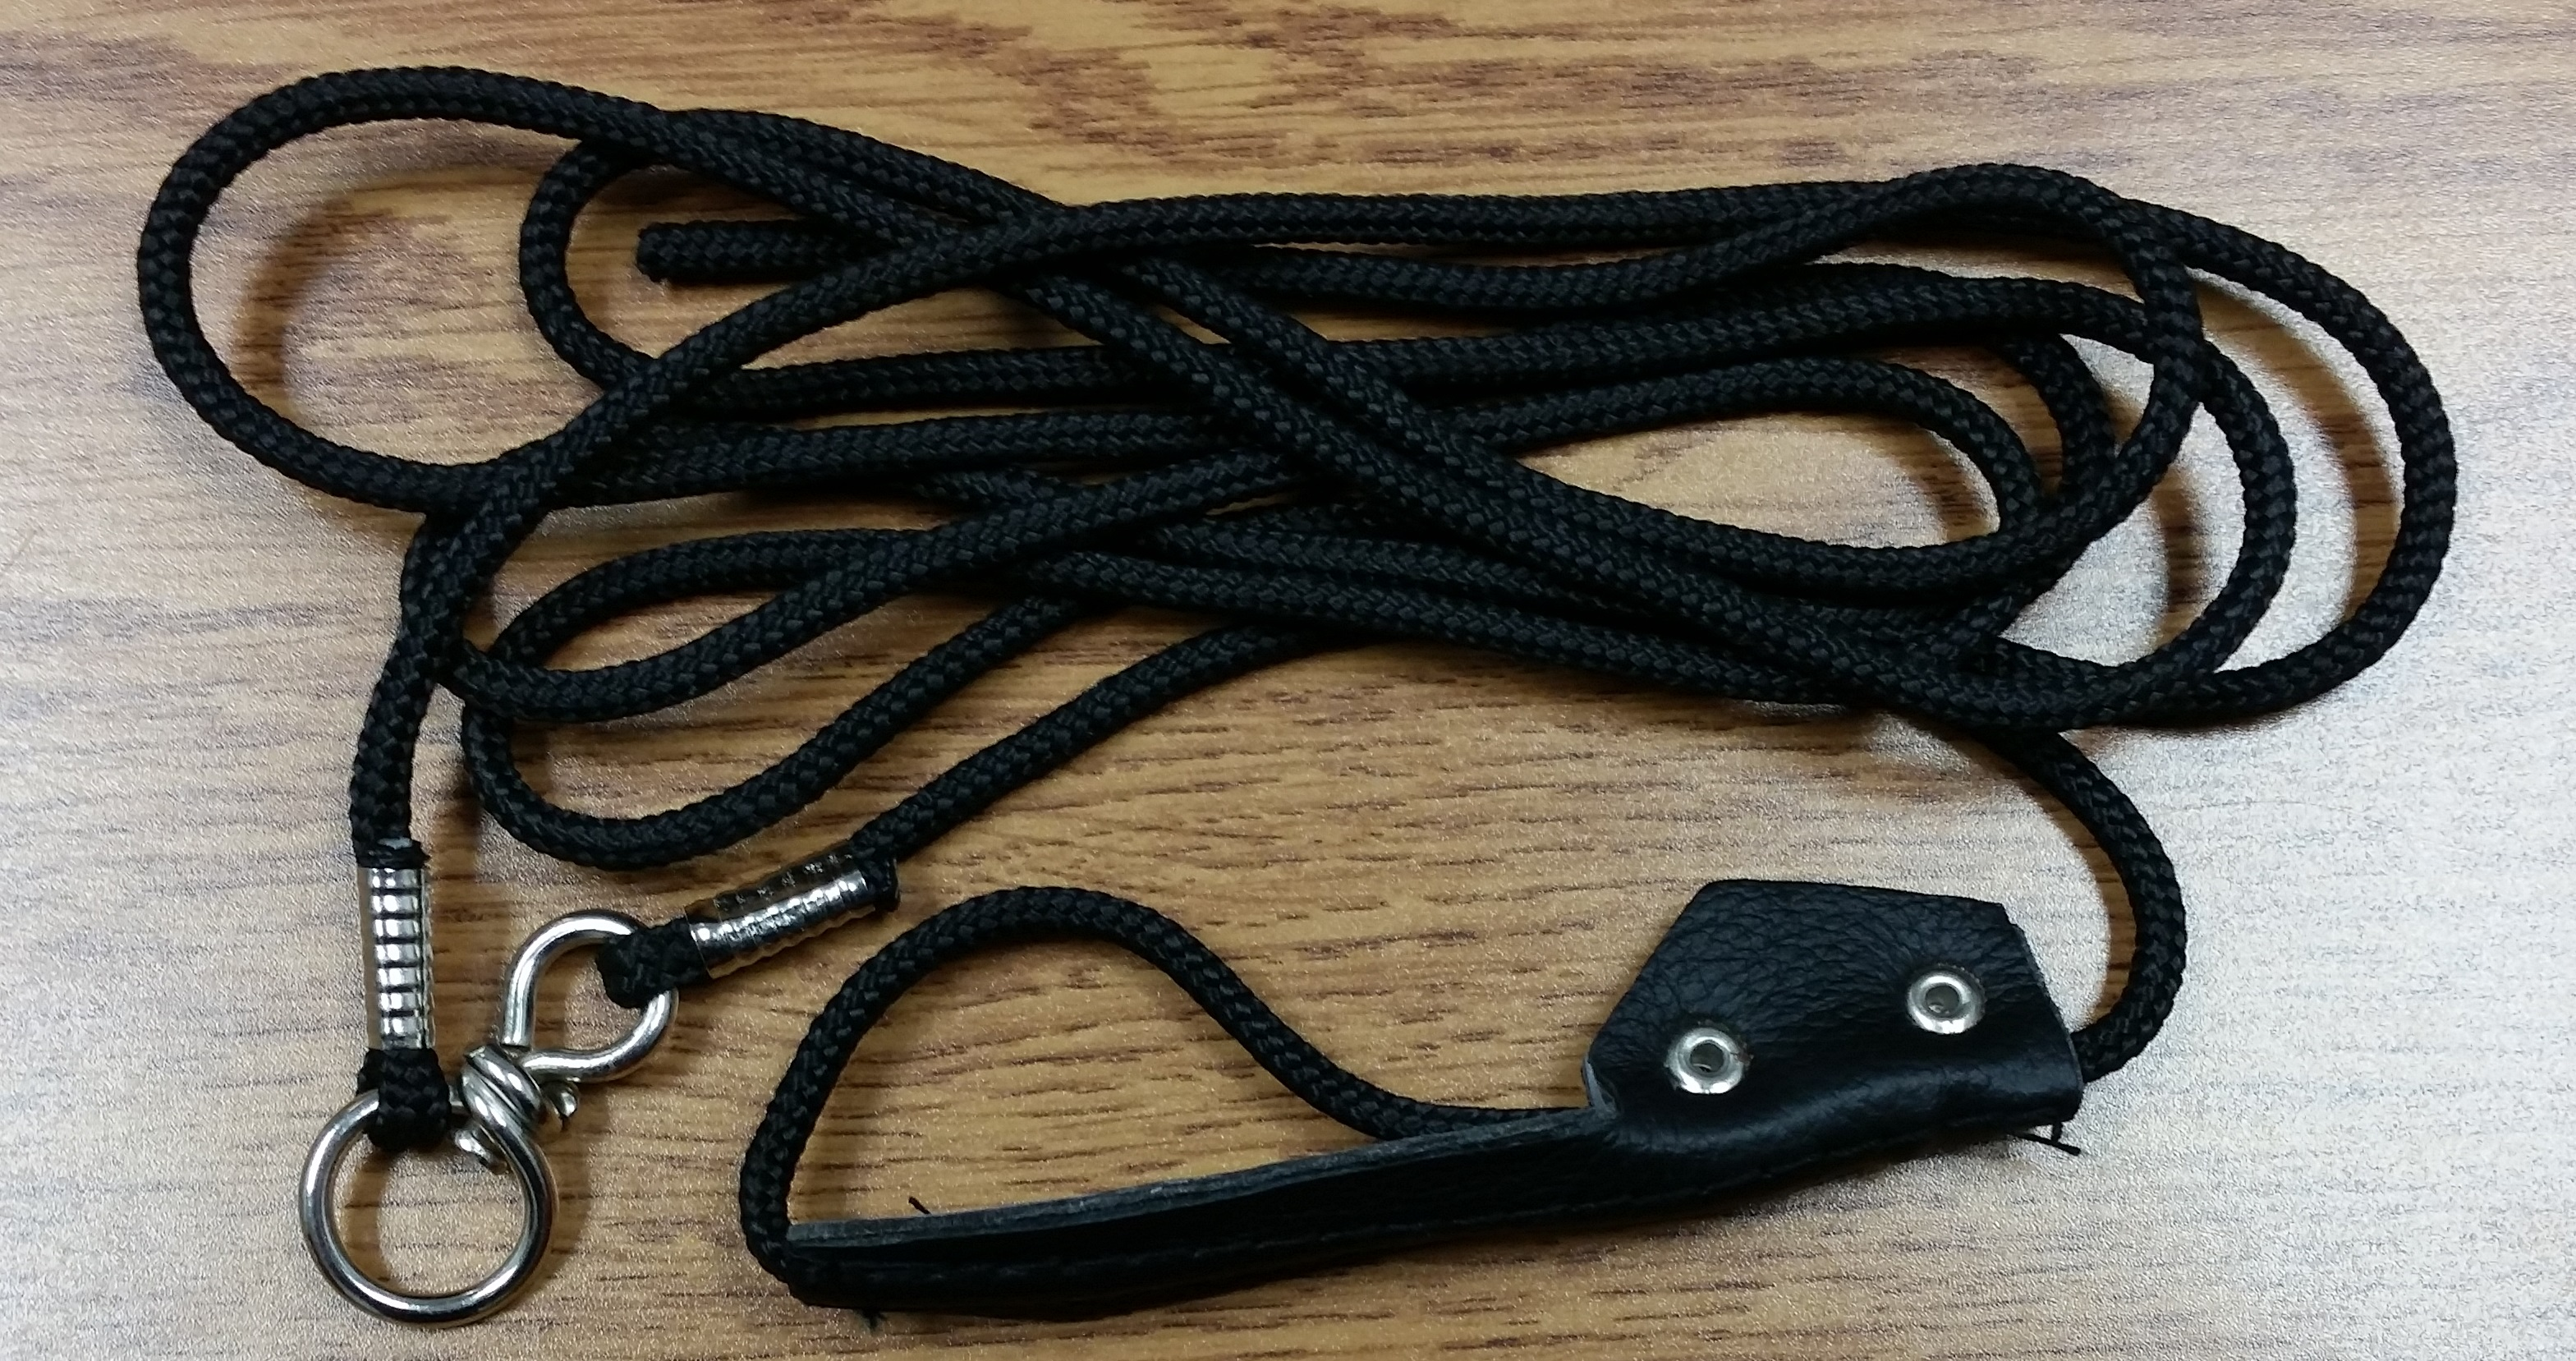Nonrec_Tangler: (95, 77, 2474, 1279)
